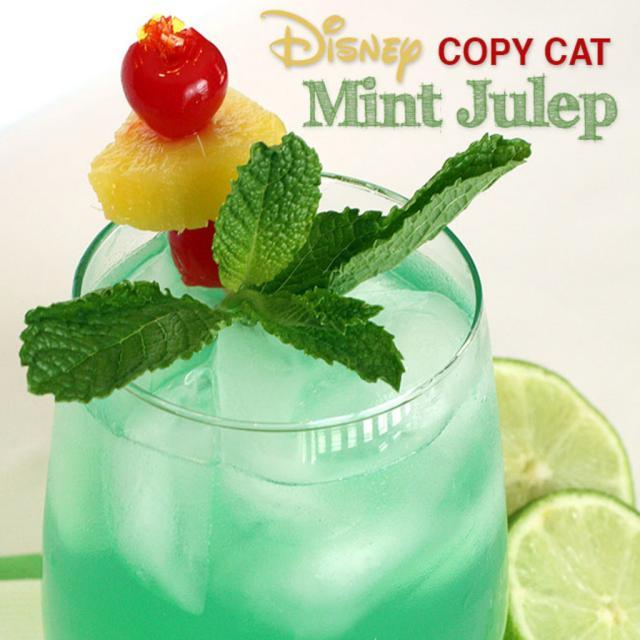Lemon: (90, 88, 290, 227), (496, 355, 635, 515), (511, 488, 636, 634)
